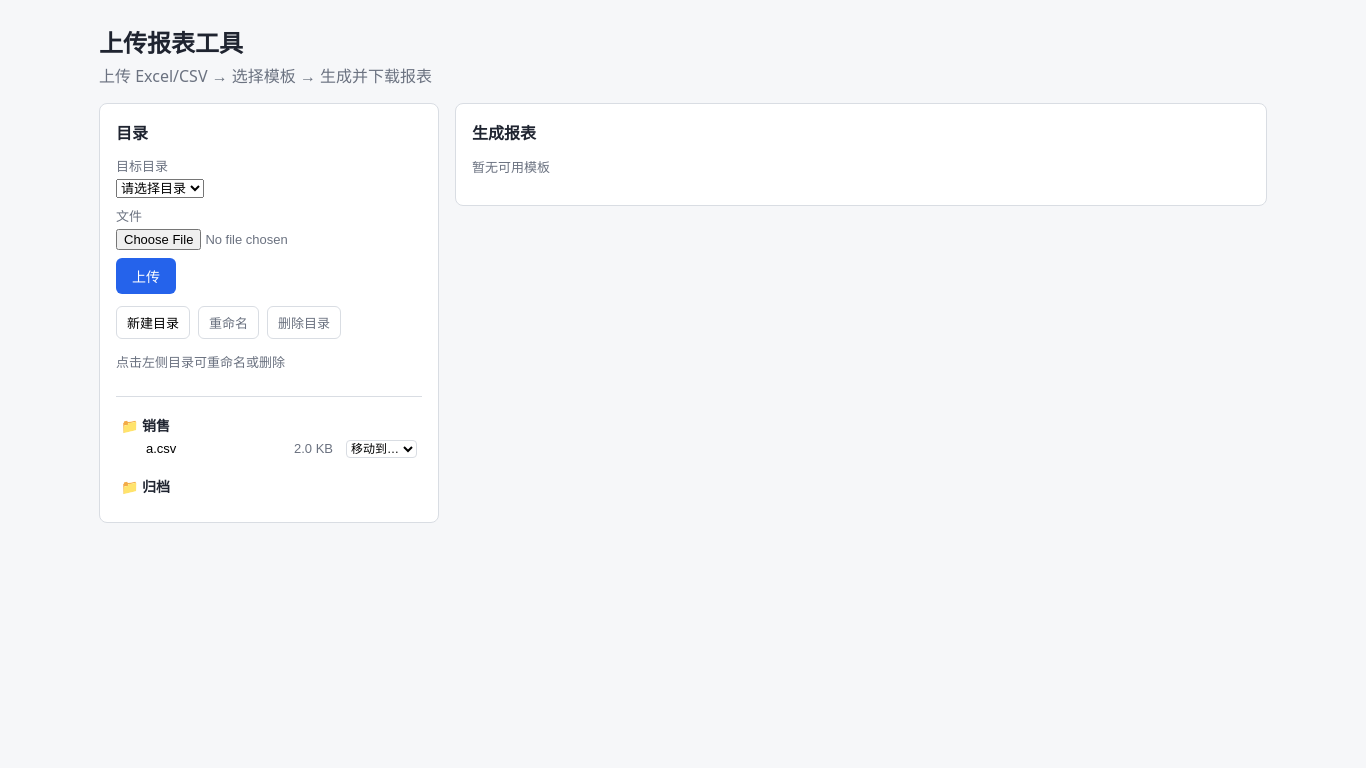
Scenario: create conflict error is surfaced to the user
Click the button "新建目录" at {"x": 153, "y": 322}, box [116, 306, 190, 339]
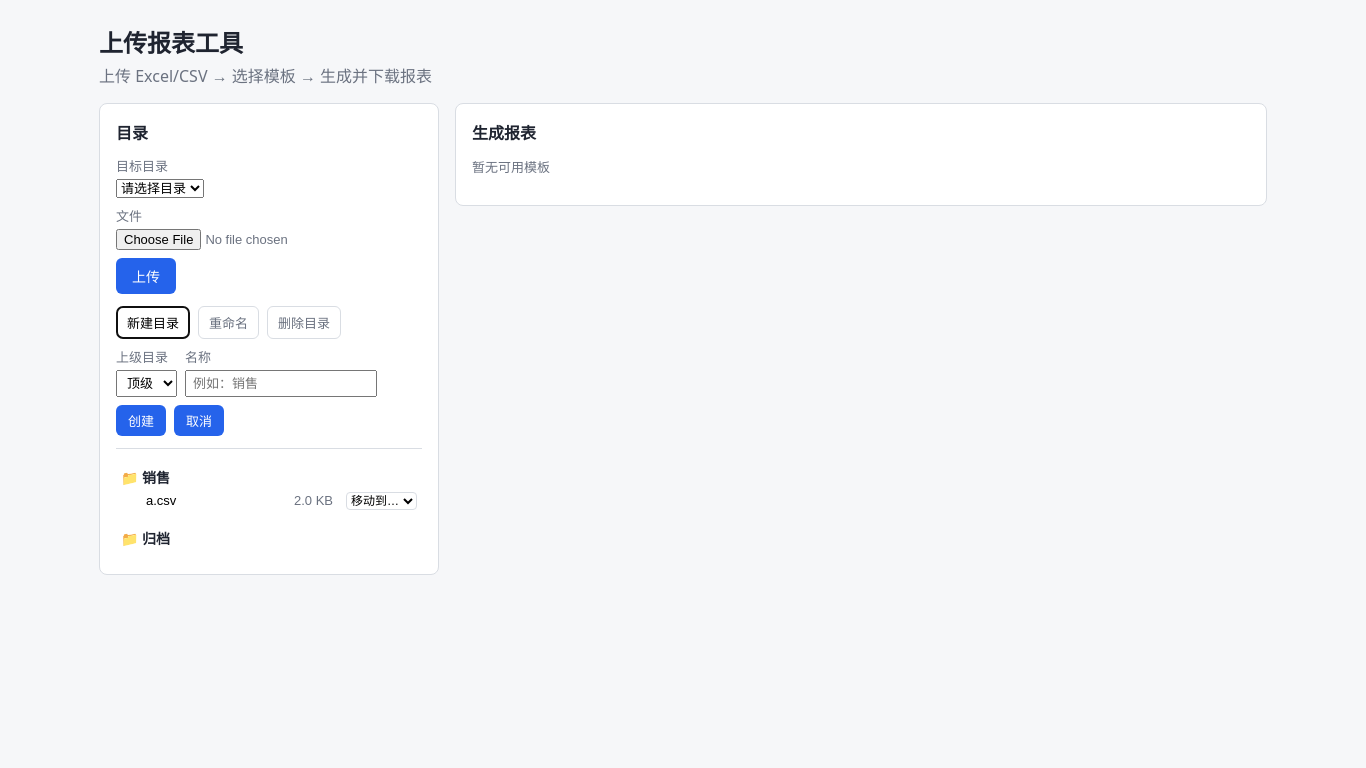
Type "销售" into the field named "目录名称" at {"x": 281, "y": 384}, box [185, 370, 377, 397]
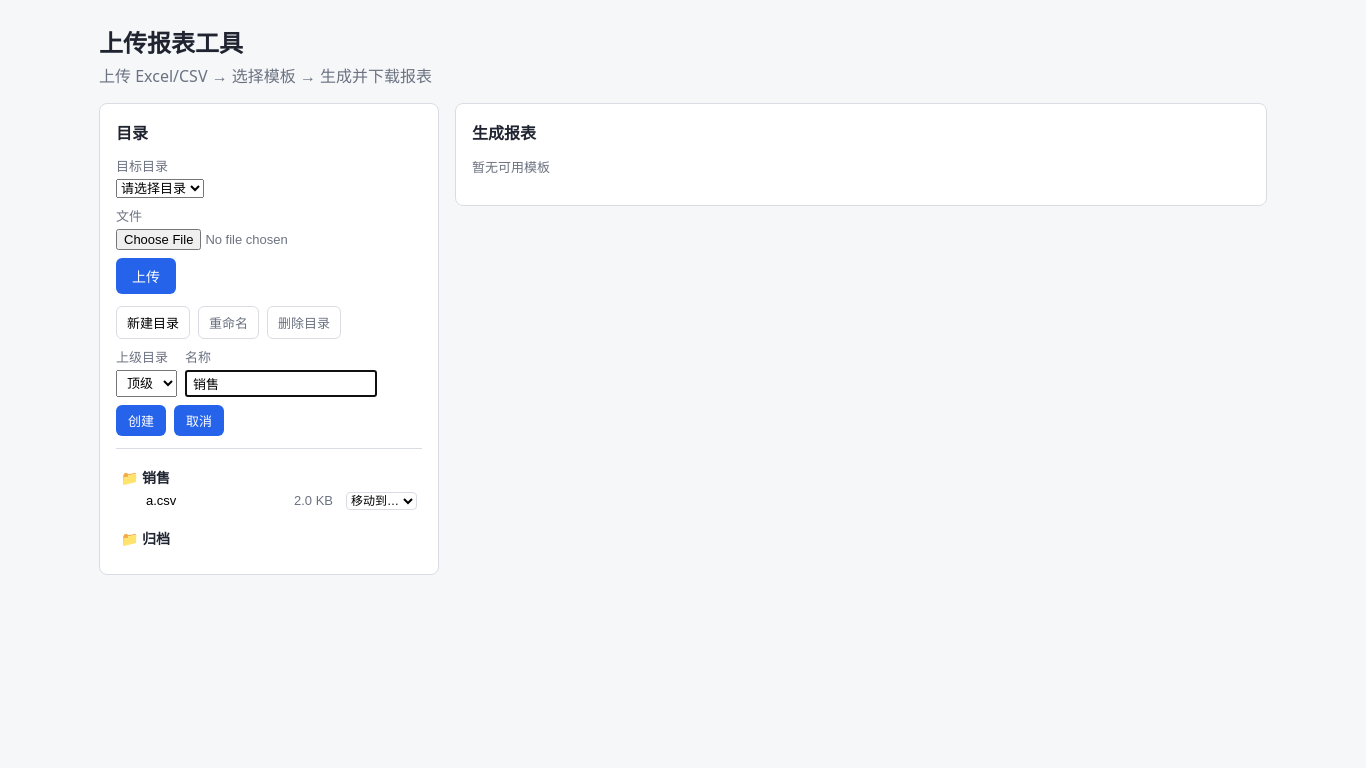
Click the button "创建" at {"x": 141, "y": 420}, box [116, 405, 166, 436]
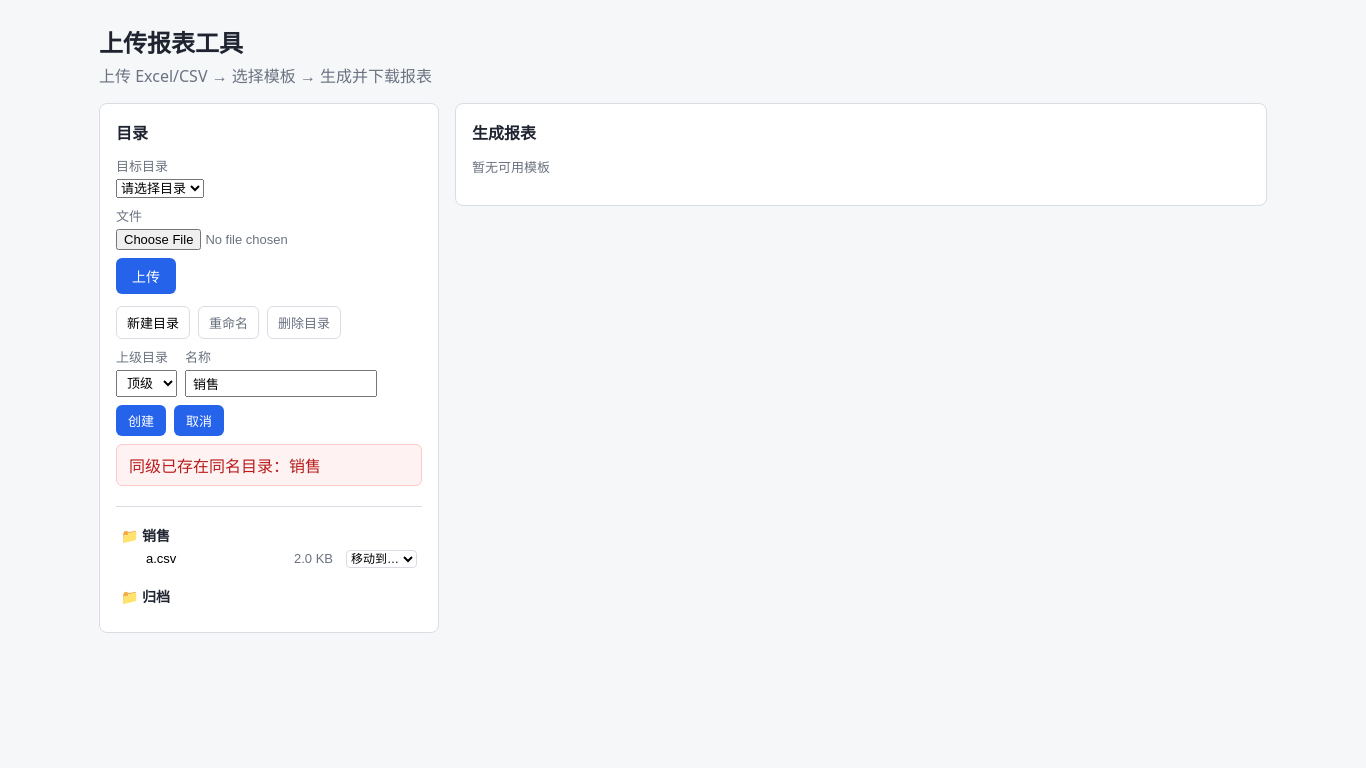
Expected: the message reads "同级已存在同名目录：销售", [129, 455, 321, 477]
